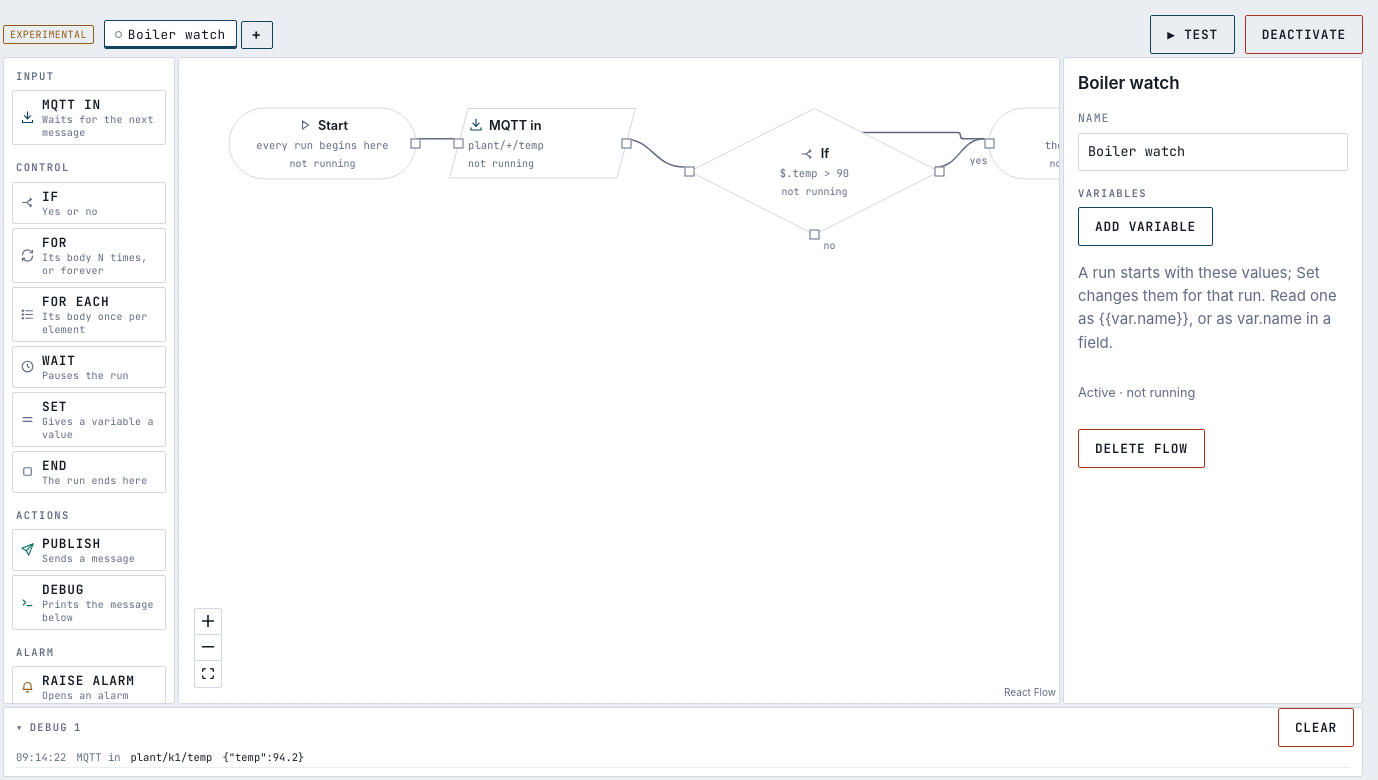
Scenario: Flows page › clears the debug lines
Check: the heading "Boiler watch" is shown, box left=1078, top=70, right=1180, bottom=96
Click the button "Clear" at (1316, 727), box left=1278, top=708, right=1354, bottom=747
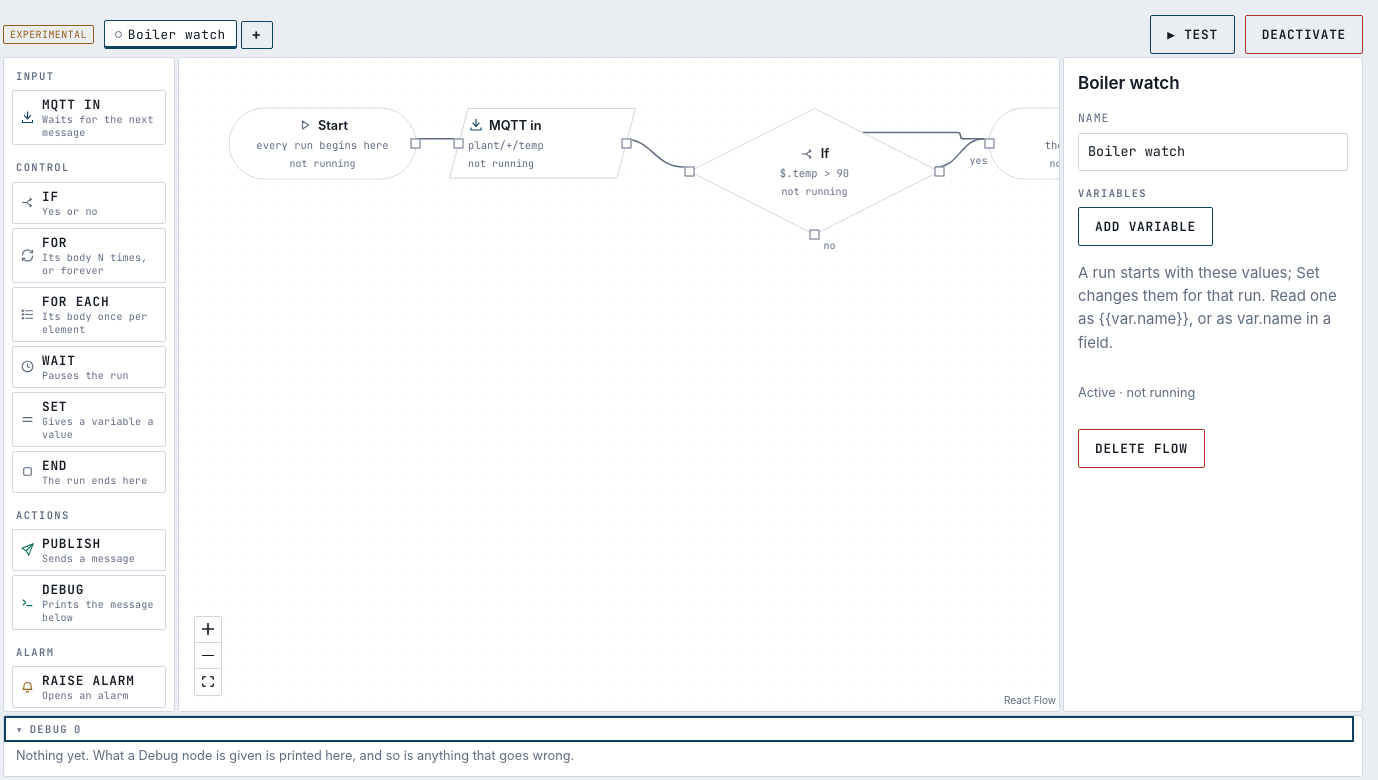
Check: the text "{\"temp\":94.2}" is gone
Check: the text "Nothing yet" is shown, box left=16, top=748, right=574, bottom=763
